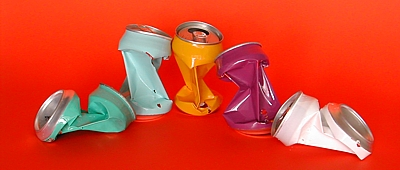can: (112, 14, 176, 124), (277, 91, 374, 157), (217, 41, 277, 147), (34, 84, 132, 147), (176, 17, 222, 121)
